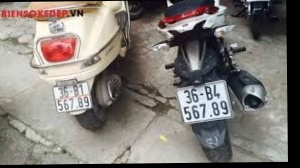Bien-so: (194, 74, 257, 124), (62, 84, 108, 121)
